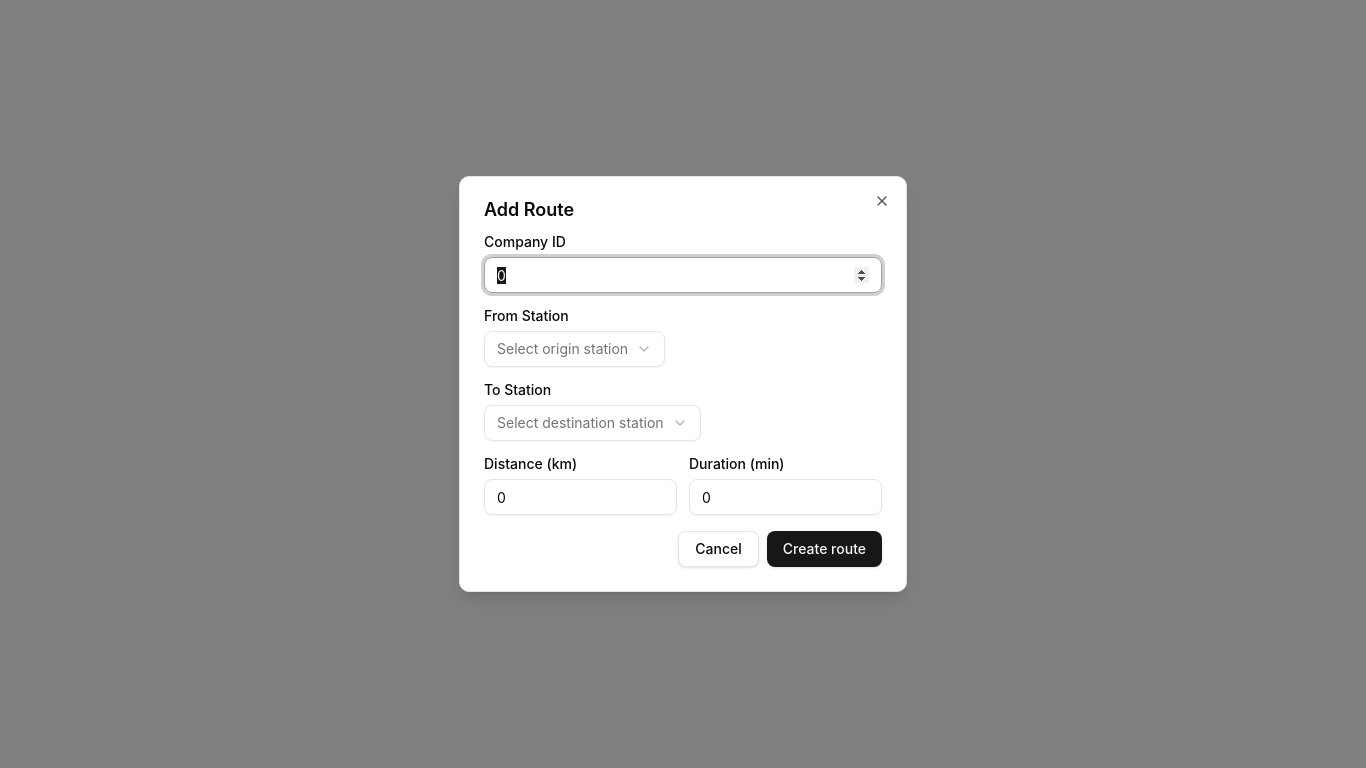
RouteFormDialog › shows validation error when distanceKm is zero on create
The width and height of the screenshot is (1366, 768).
Click the button "Create route". click: [824, 549]
box: [767, 531, 882, 567]
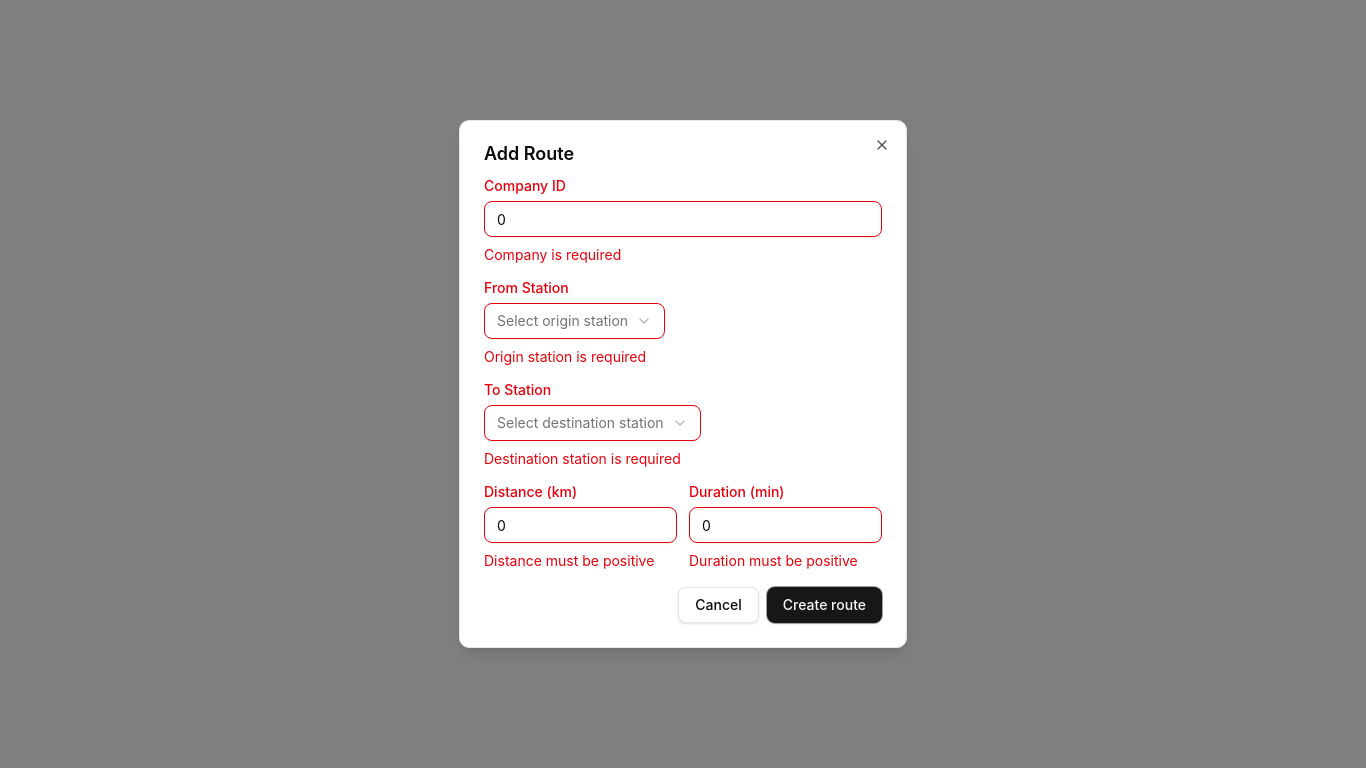
Expected: the text "Company is required" is shown, [484, 246, 621, 263]
